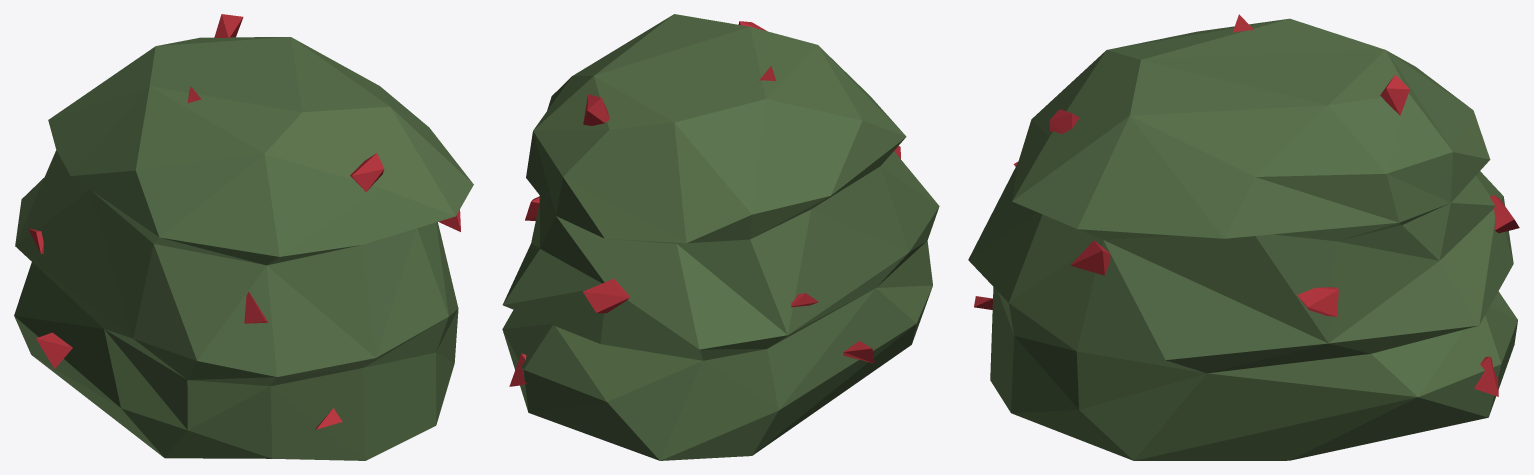
The model's file is BushBerries_1.lod2.glb.
The picture shows the model from 3 angles, left to right: view 1: azimuth 30°, elevation 25°; view 2: azimuth 150°, elevation 25°; view 3: azimuth 270°, elevation 25°; orthographic projection. The views are drawn at different scales.
Visible parts, largest first — view 1: BushBerries_1; view 2: BushBerries_1; view 3: BushBerries_1.
Boxes of the visible parts, box(x1,y1,x2,y2) form: BushBerries_1: box(14, 14, 473, 460); BushBerries_1: box(502, 14, 939, 460); BushBerries_1: box(968, 14, 1519, 460).
Bounding box in the file's own units: 1.41 × 1.26 × 1.72.
